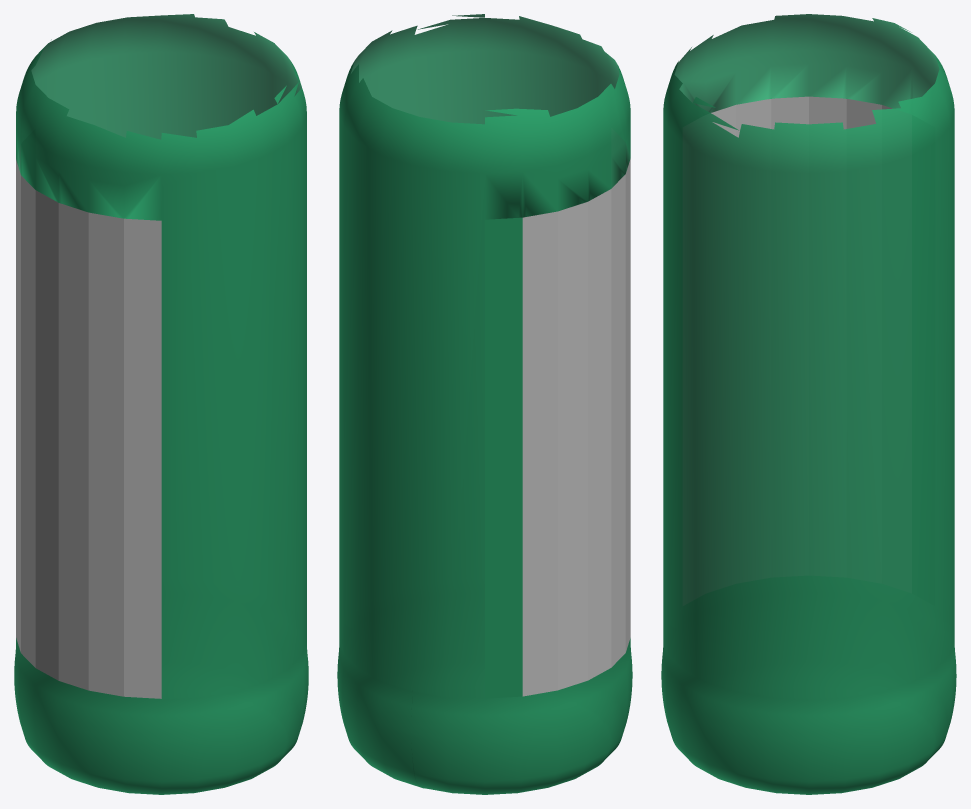
The picture shows the model from 3 angles, left to right: view 1: azimuth 30°, elevation 25°; view 2: azimuth 150°, elevation 25°; view 3: azimuth 270°, elevation 25°; orthographic projection.
Bounding box in the file's own units: 0.4184 × 1.08 × 0.4185.
